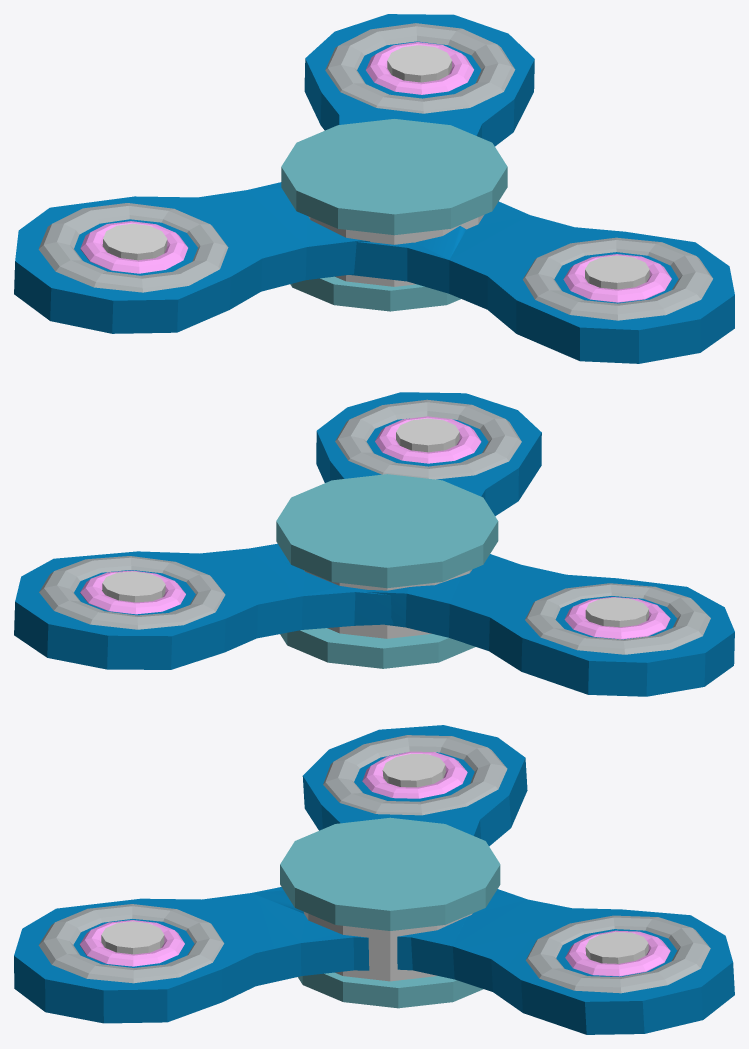
File: fidgetspinner.glb
3 renders of one model, top to bottom at view 1: azimuth 30°, elevation 25°; view 2: azimuth 150°, elevation 25°; view 3: azimuth 270°, elevation 25°, orthographic. The views are drawn at different scales.
Visible parts, largest first — view 1: node_MeshObject617681920-PolyPaper16, node_MeshObject835173376-PolyGem25; view 2: node_MeshObject617681920-PolyPaper16, node_MeshObject835173376-PolyGem25; view 3: node_MeshObject617681920-PolyPaper16, node_MeshObject835173376-PolyGem25.
Part boxes in pixels (x1=…): node_MeshObject617681920-PolyPaper16: x1=14, y1=14, x2=734, y2=363; node_MeshObject835173376-PolyGem25: x1=80, y1=42, x2=671, y2=302; node_MeshObject617681920-PolyPaper16: x1=14, y1=392, x2=734, y2=696; node_MeshObject835173376-PolyGem25: x1=80, y1=416, x2=670, y2=639; node_MeshObject617681920-PolyPaper16: x1=14, y1=725, x2=734, y2=1034; node_MeshObject835173376-PolyGem25: x1=79, y1=751, x2=670, y2=976.
Size of the model in its own units: 0.8516 by 0.1367 by 0.9162.
